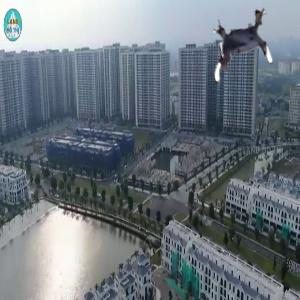drone: (202, 7, 281, 86)
